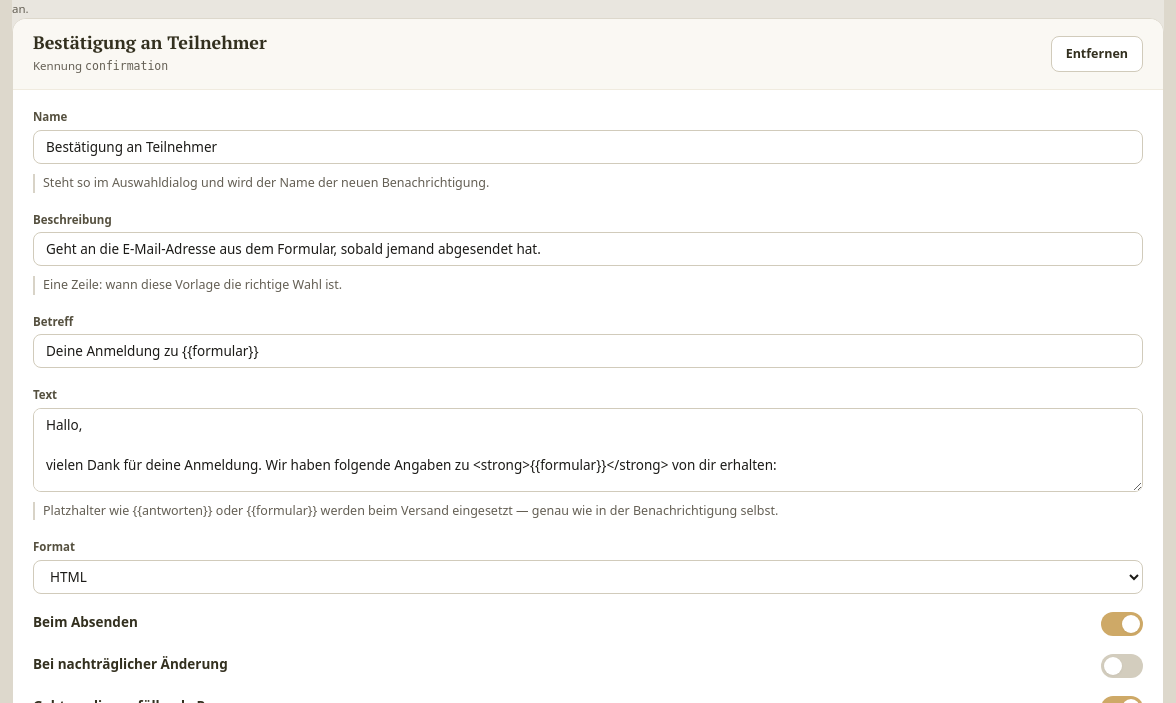
Scenario: TenantTemplatesTab › lässt eine Vorlage entfernen
Click the button "Entfernen": click(1097, 54) [1051,36,1143,72]
(page scrolled)
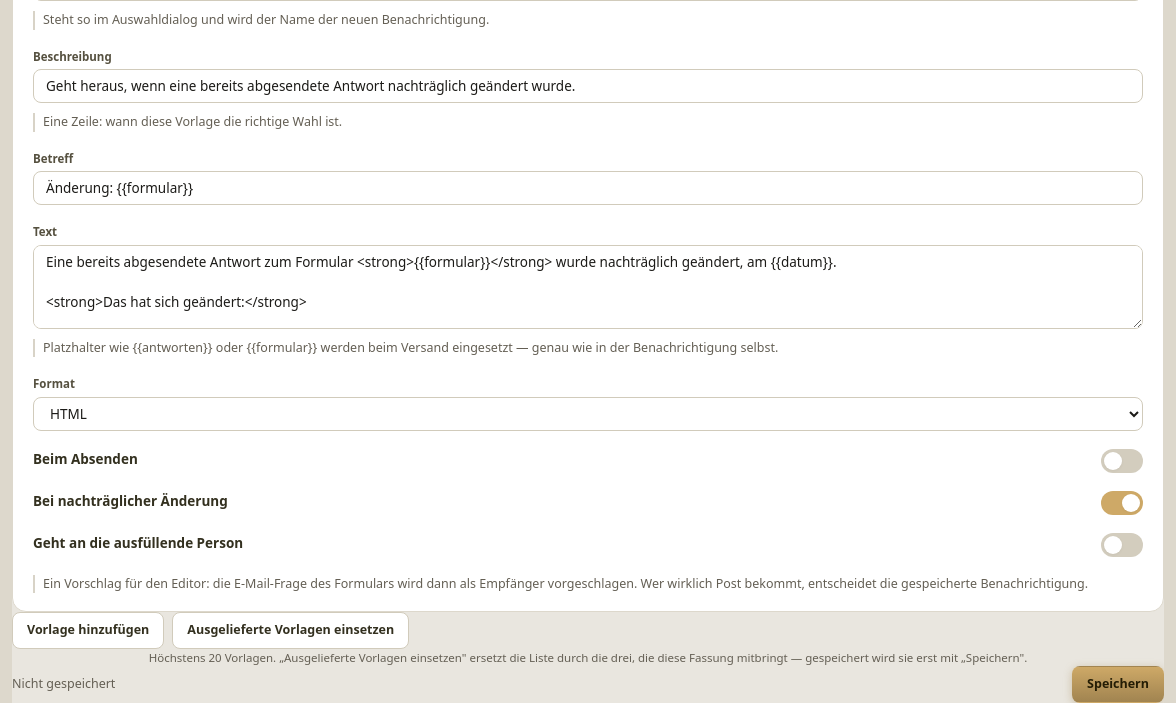
expect the button "Speichern" is enabled: met, box [1072,666,1164,702]
